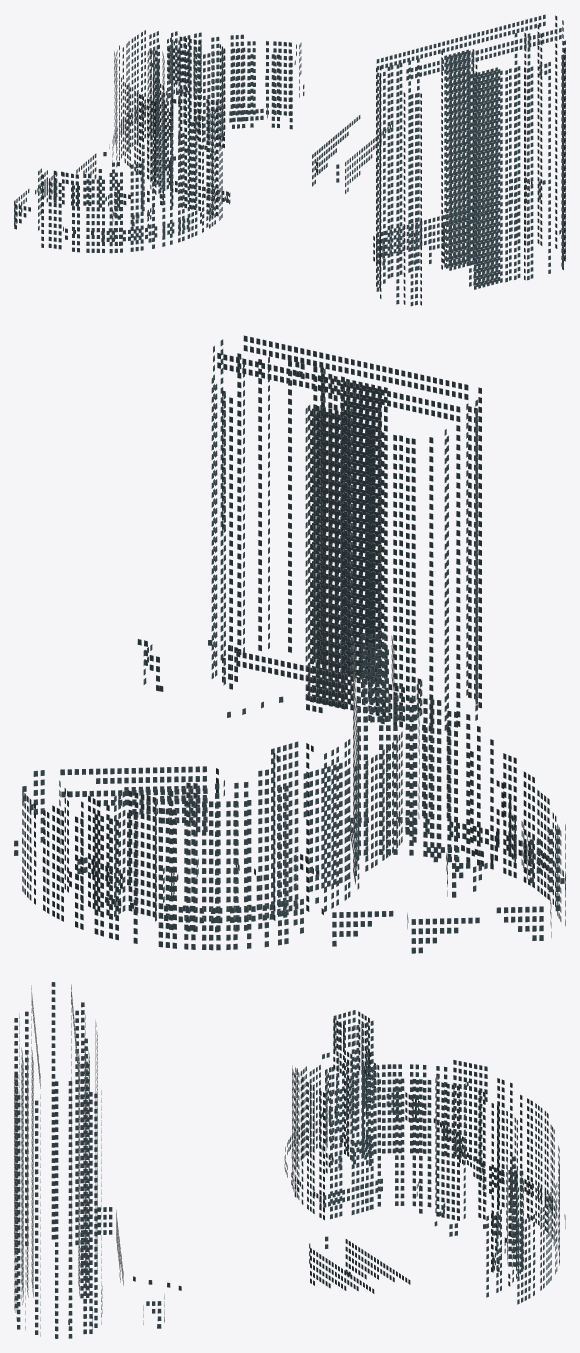
Rendered from Production_HotelFacades.glb.
3 views of the same model, one above another, from view 1: azimuth 30°, elevation 25°; view 2: azimuth 150°, elevation 25°; view 3: azimuth 270°, elevation 25° (orthographic). The views are drawn at different scales.
Parts seen in each view (by area): view 1: Production_HotelFacades_Infra_Glass, Production_HotelFacades_Infra_Frames; view 2: Production_HotelFacades_Infra_Glass, Production_HotelFacades_Infra_Frames; view 3: Production_HotelFacades_Infra_Glass, Production_HotelFacades_Infra_Frames.
Boxes of the visible parts, <box> form: Production_HotelFacades_Infra_Glass: <box>14,15,565,305</box>; Production_HotelFacades_Infra_Frames: <box>14,14,565,306</box>; Production_HotelFacades_Infra_Glass: <box>14,335,565,953</box>; Production_HotelFacades_Infra_Frames: <box>14,335,565,953</box>; Production_HotelFacades_Infra_Glass: <box>14,982,565,1338</box>; Production_HotelFacades_Infra_Frames: <box>14,982,565,1338</box>.
Size of the model in its own units: 204 by 109 by 212.
